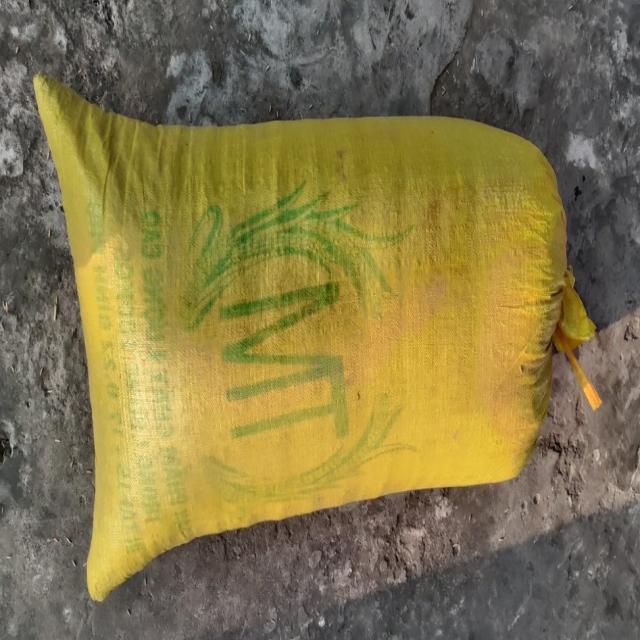gunny_bag: (34, 74, 592, 601)
